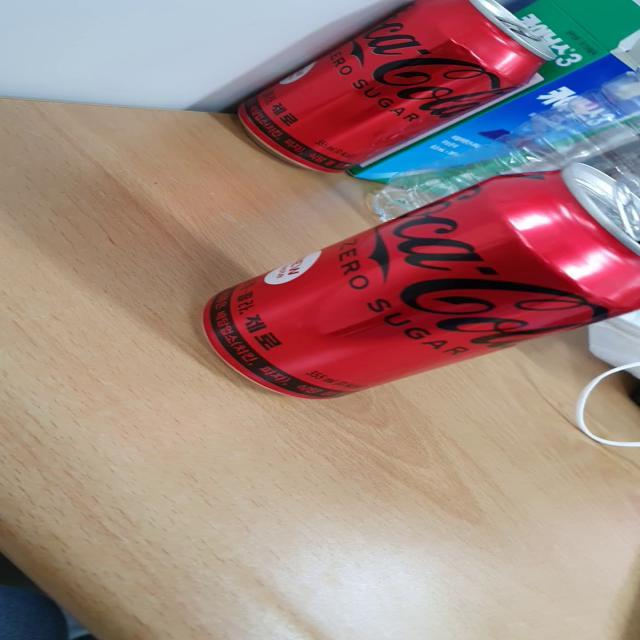coca-cola: (187, 158, 640, 417), (218, 0, 558, 178)
